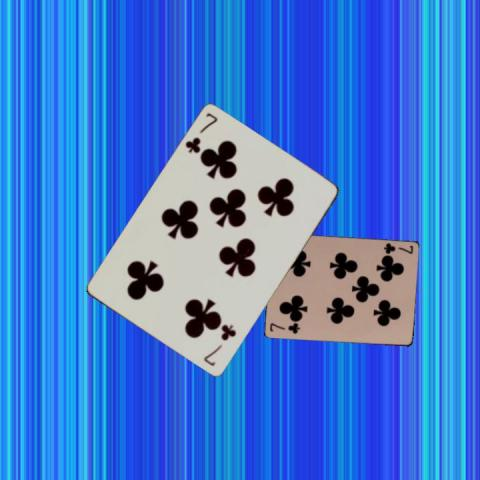7c: (201, 322, 238, 368), (182, 110, 219, 155), (267, 320, 301, 335), (381, 241, 414, 255)
